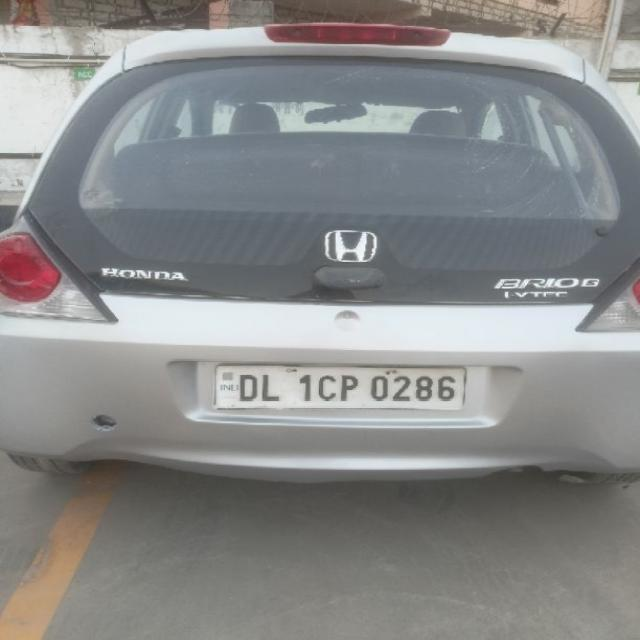license_plate: (212, 362, 466, 411)
